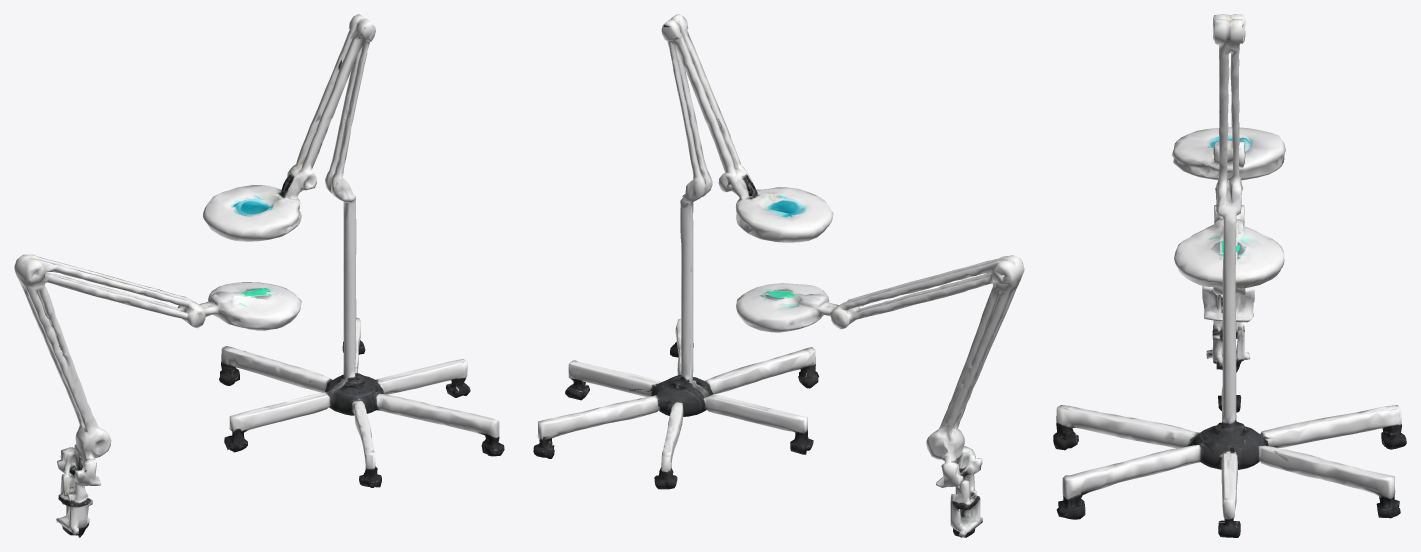
Rendered from Magnifying_Lamp_with__0421154941_texture.glb.
The picture shows the model from 3 angles, left to right: view 1: azimuth 30°, elevation 25°; view 2: azimuth 150°, elevation 25°; view 3: azimuth 270°, elevation 25°; orthographic projection. The views are drawn at different scales.
Bounding box in the file's own units: 2 × 1.92 × 1.18.
1 material, 1 textured.
